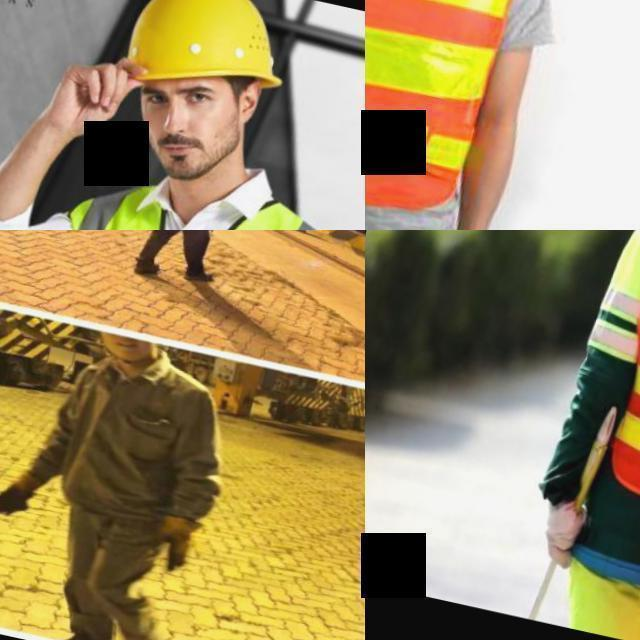vest: (365, 0, 546, 230), (0, 168, 344, 230)
